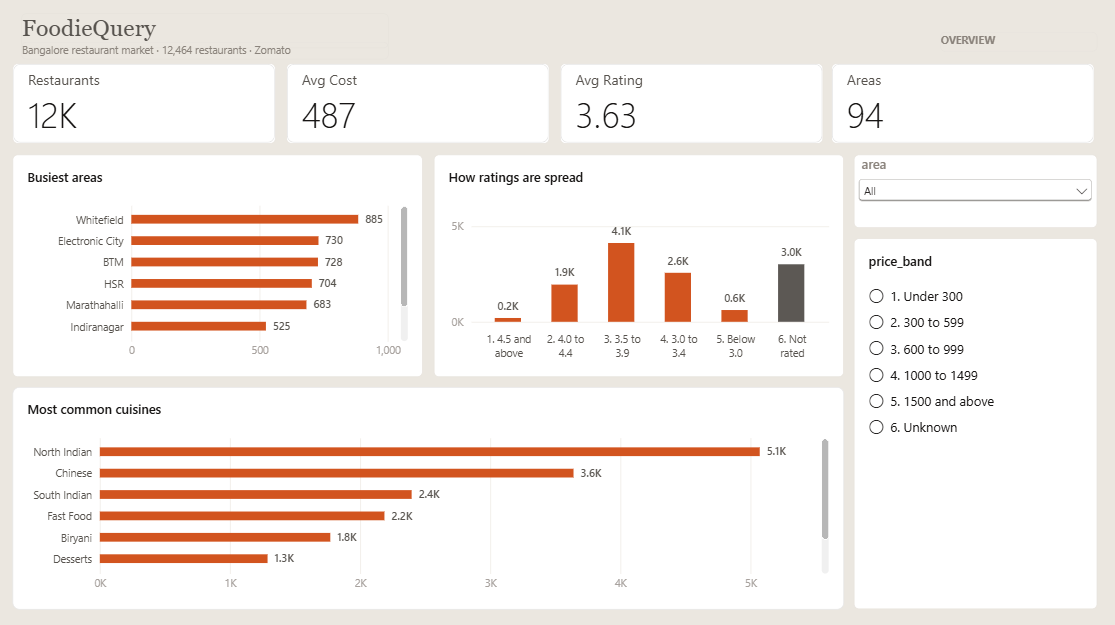

The page's visual inventory and layout, read from the dashboard file:
{"tool":"powerbi","page":{"name":"Overview","canvas":[1280,720],"ordinal":0},"visuals":[{"type":"cardVisual","fields":{"Data":["vw_bi_restaurants.Restaurants"]},"box":[20,76,301,92],"z":0},{"type":"cardVisual","fields":{"Data":["vw_bi_restaurants.Avg Cost"]},"box":[333,76,301,92],"z":1000},{"type":"cardVisual","fields":{"Data":["vw_bi_restaurants.Avg Rating"]},"box":[646,76,301,92],"z":2000},{"type":"cardVisual","fields":{"Data":["vw_bi_restaurants.Areas"]},"box":[956,76,301,92],"z":3000},{"type":"clusteredBarChart","title":"Busiest areas","fields":{"Category":["vw_bi_restaurants.area"],"Y":["vw_bi_restaurants.Restaurants"]},"box":[20,180,469,254],"z":4000},{"type":"clusteredBarChart","title":"Most common cuisines","fields":{"Category":["vw_bi_cuisines.cuisine"],"Y":["vw_bi_restaurants.Restaurants"]},"box":[20,446,950,254],"z":5000},{"type":"clusteredColumnChart","title":"How ratings are spread","fields":{"Category":["vw_bi_restaurants.rating_band"],"Y":["vw_bi_restaurants.Restaurants"]},"box":[501,180,469,254],"z":6000},{"type":"slicer","fields":{"Values":["vw_bi_restaurants.area"]},"box":[982,180,278,84],"z":7000},{"type":"listSlicer","fields":{"Values":["vw_bi_restaurants.price_band"]},"box":[982,276,278,424],"z":8000},{"type":"textbox","box":[30,18,420,40],"z":9000},{"type":"textbox","box":[30,52,420,20],"z":10000},{"type":"textbox","box":[1080,40,180,22],"z":11000}]}

Visuals, with their boxes in screenshot pixels (x1, y1, x2, y2), scaled from the page's 1280x720 canvas onto the 1115x625 screenshot:
cardVisual - vw_bi_restaurants.Restaurants: bbox(17, 66, 280, 146)
cardVisual - vw_bi_restaurants.Avg Cost: bbox(290, 66, 552, 146)
cardVisual - vw_bi_restaurants.Avg Rating: bbox(563, 66, 825, 146)
cardVisual - vw_bi_restaurants.Areas: bbox(833, 66, 1095, 146)
"Busiest areas" clusteredBarChart: bbox(17, 156, 426, 377)
"Most common cuisines" clusteredBarChart: bbox(17, 387, 845, 608)
"How ratings are spread" clusteredColumnChart: bbox(436, 156, 845, 377)
slicer - vw_bi_restaurants.area: bbox(855, 156, 1098, 229)
listSlicer - vw_bi_restaurants.price_band: bbox(855, 240, 1098, 608)
textbox: bbox(26, 16, 392, 50)
textbox: bbox(26, 45, 392, 62)
textbox: bbox(941, 35, 1098, 54)
